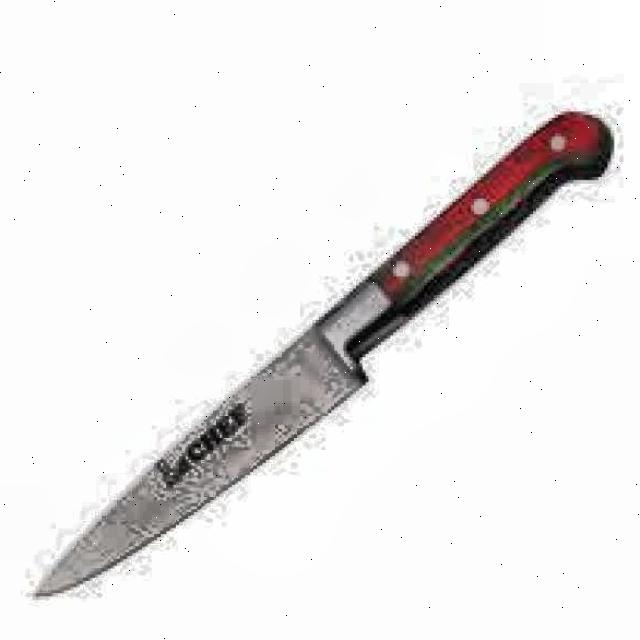knife: (25, 103, 625, 612)
